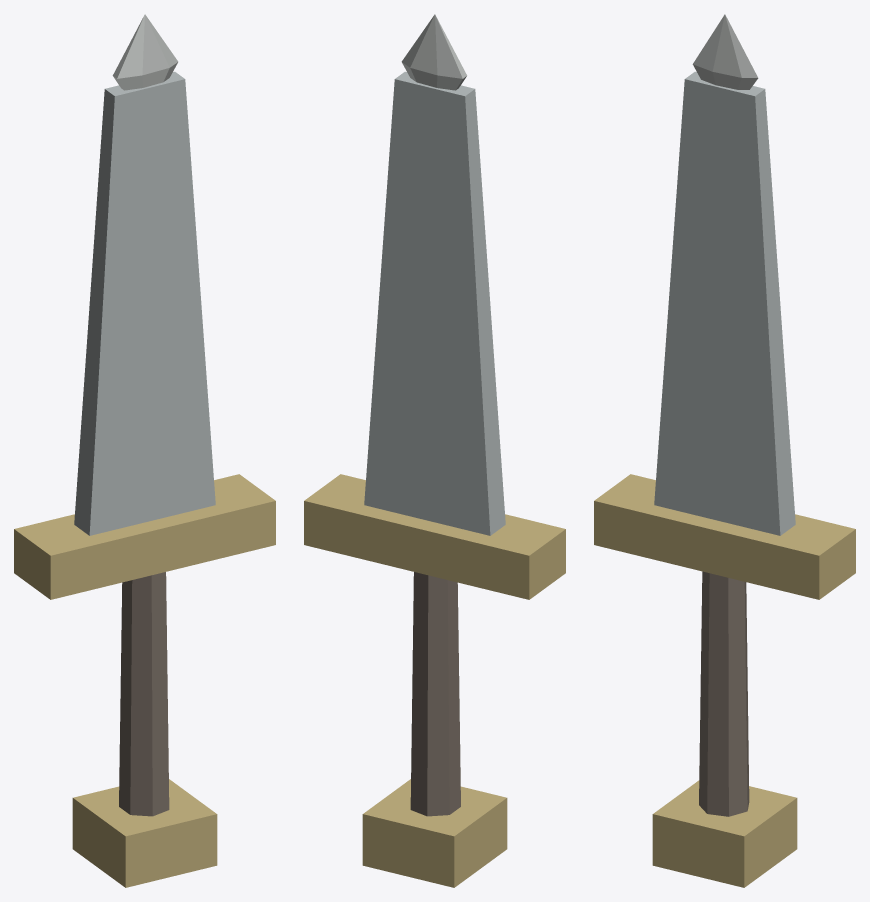
Rendered from sword.glb.
3 views of the same model, side by side, from view 1: azimuth 30°, elevation 25°; view 2: azimuth 150°, elevation 25°; view 3: azimuth 330°, elevation 25° (orthographic).
Parts seen in each view (by area): view 1: 工具; view 2: 工具; view 3: 工具.
Boxes of the visible parts, bbox=[...] form: 工具: bbox=[14, 14, 275, 887]; 工具: bbox=[304, 14, 565, 887]; 工具: bbox=[594, 14, 855, 887].
Size of the model in its own units: 0.64 by 2.29 by 0.26.
